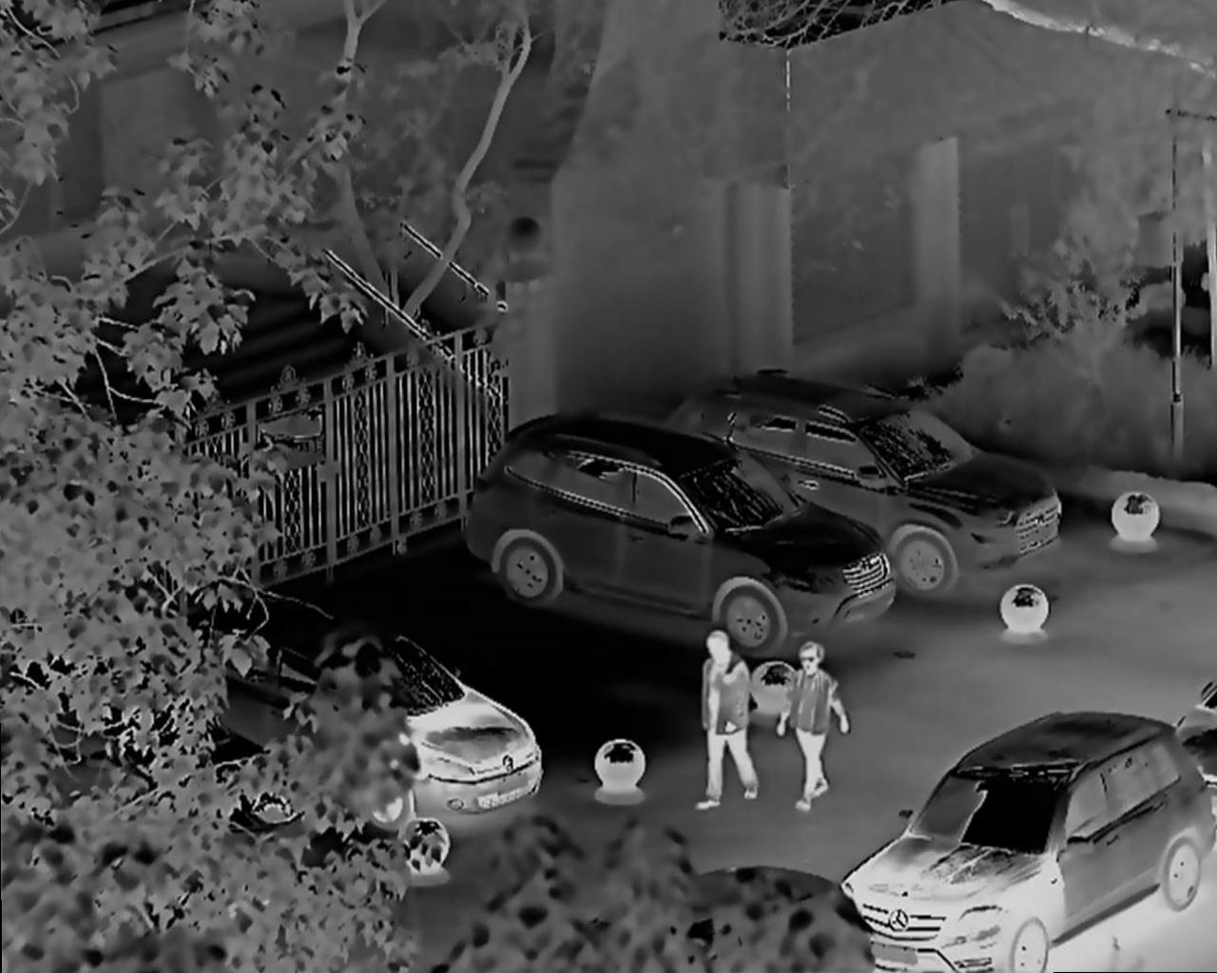person: (703, 618, 774, 821), (781, 650, 848, 809)
